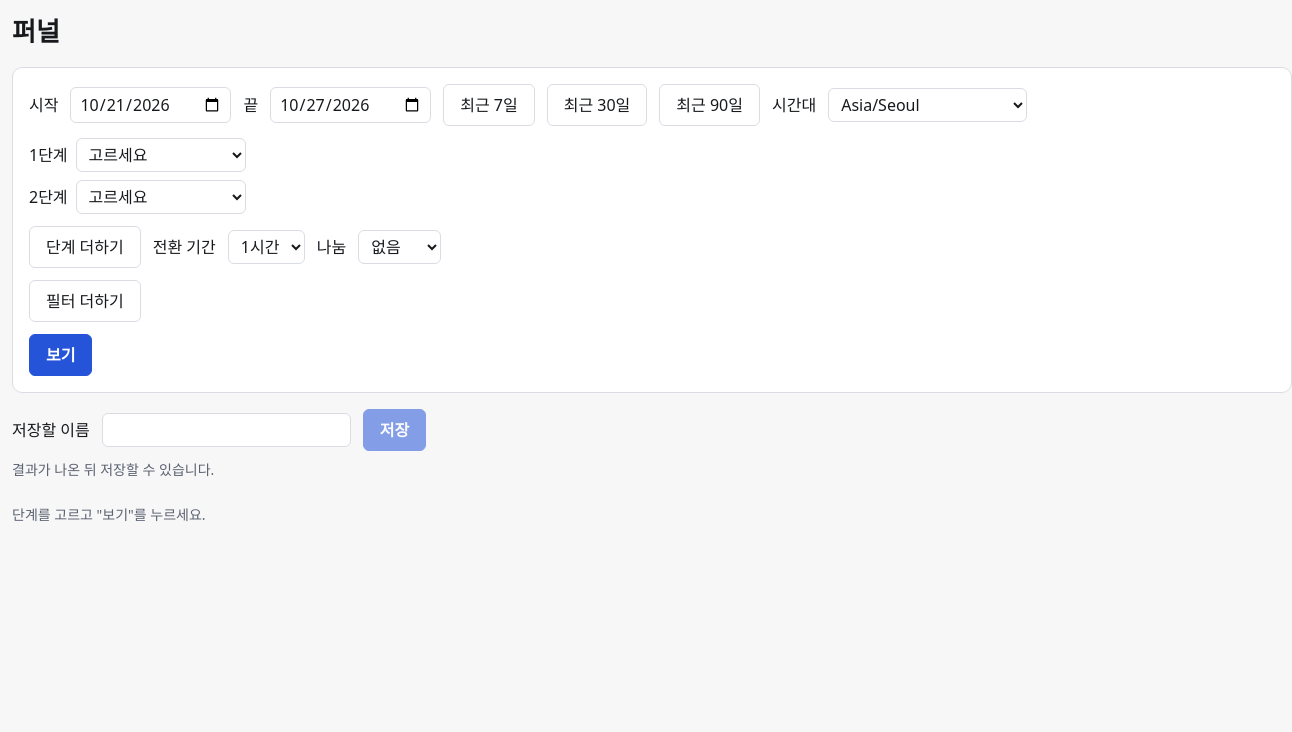
Test: FunnelsPage › 단계 더하기·빼기: 값의 순서가 남고, 뺀 자리의 단계로 포커스가 간다
The image size is (1292, 732).
Select "list_viewed" in the dropdown labelled "1단계": point(161, 155) [76,138,246,172]
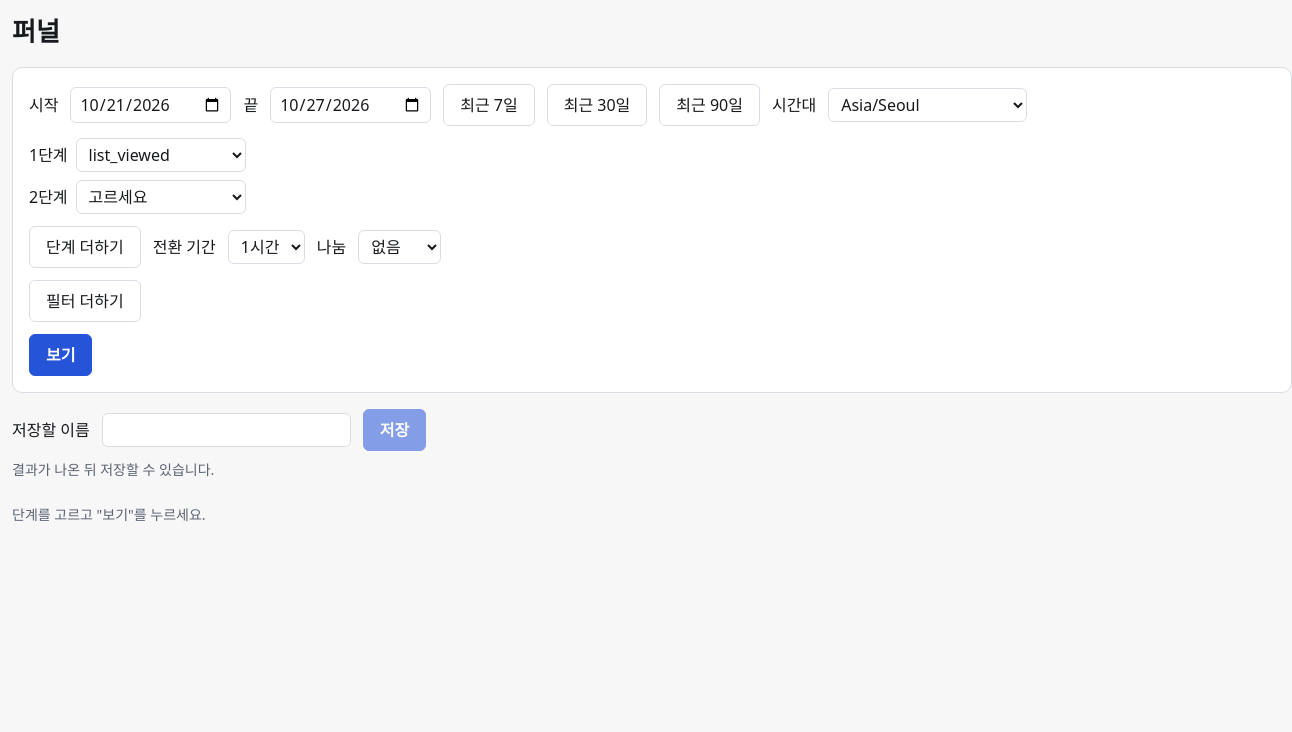
Select "seat_map_viewed" in the dropdown labelled "2단계": point(161, 197) [76,180,246,214]
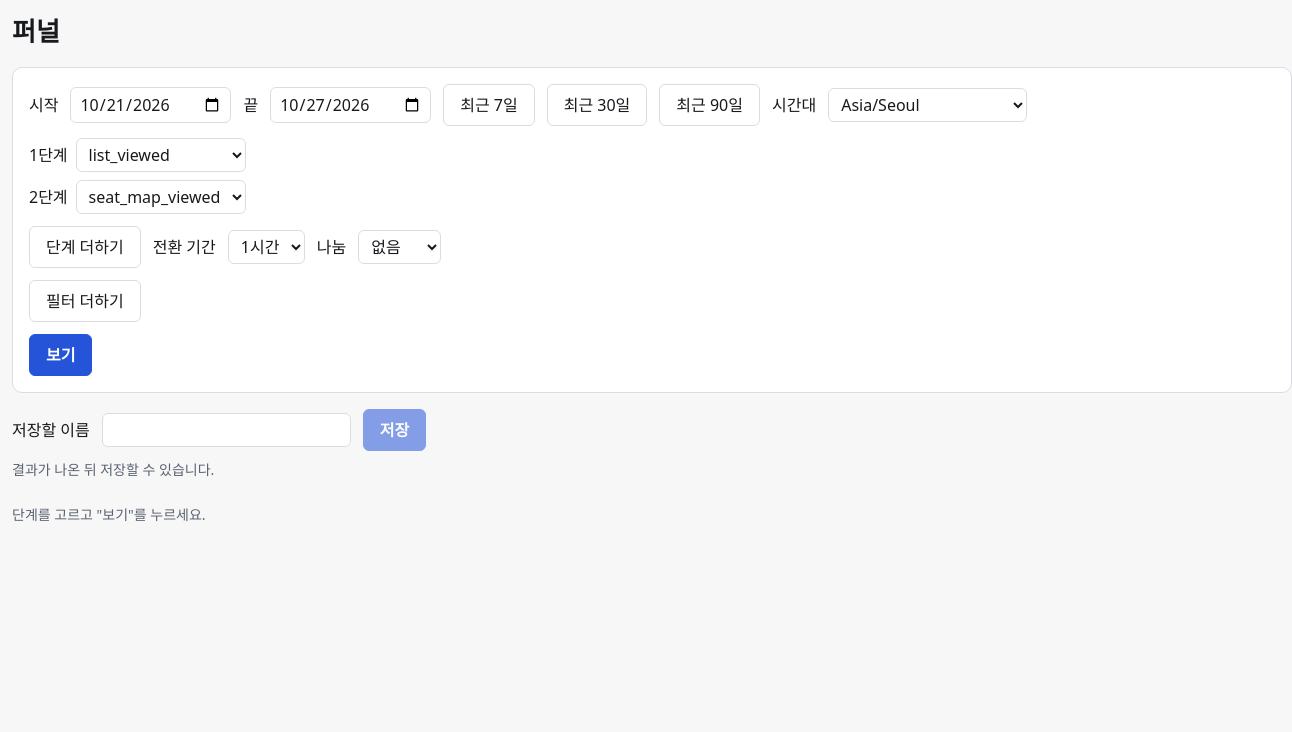
Click the button "단계 더하기": point(85, 247) [29,226,141,268]
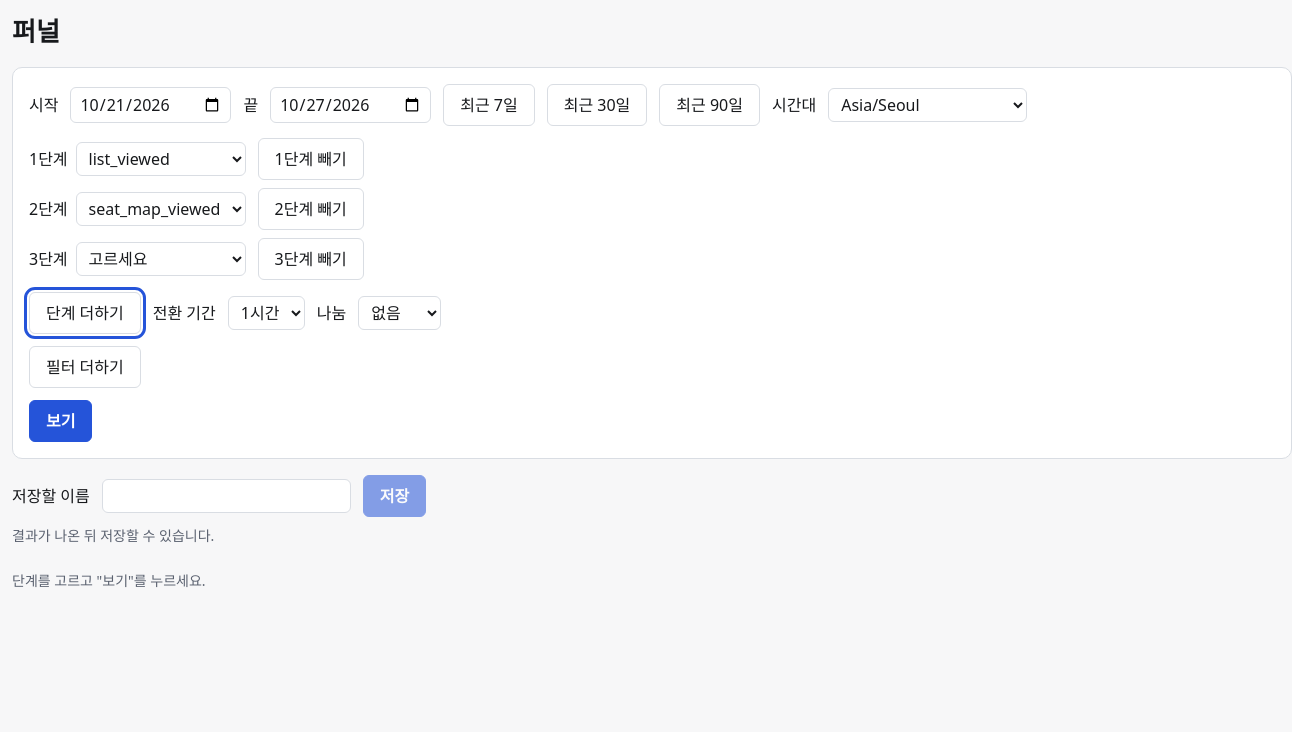
Select "paid" in the dropdown labelled "3단계": point(161, 259) [76,242,246,276]
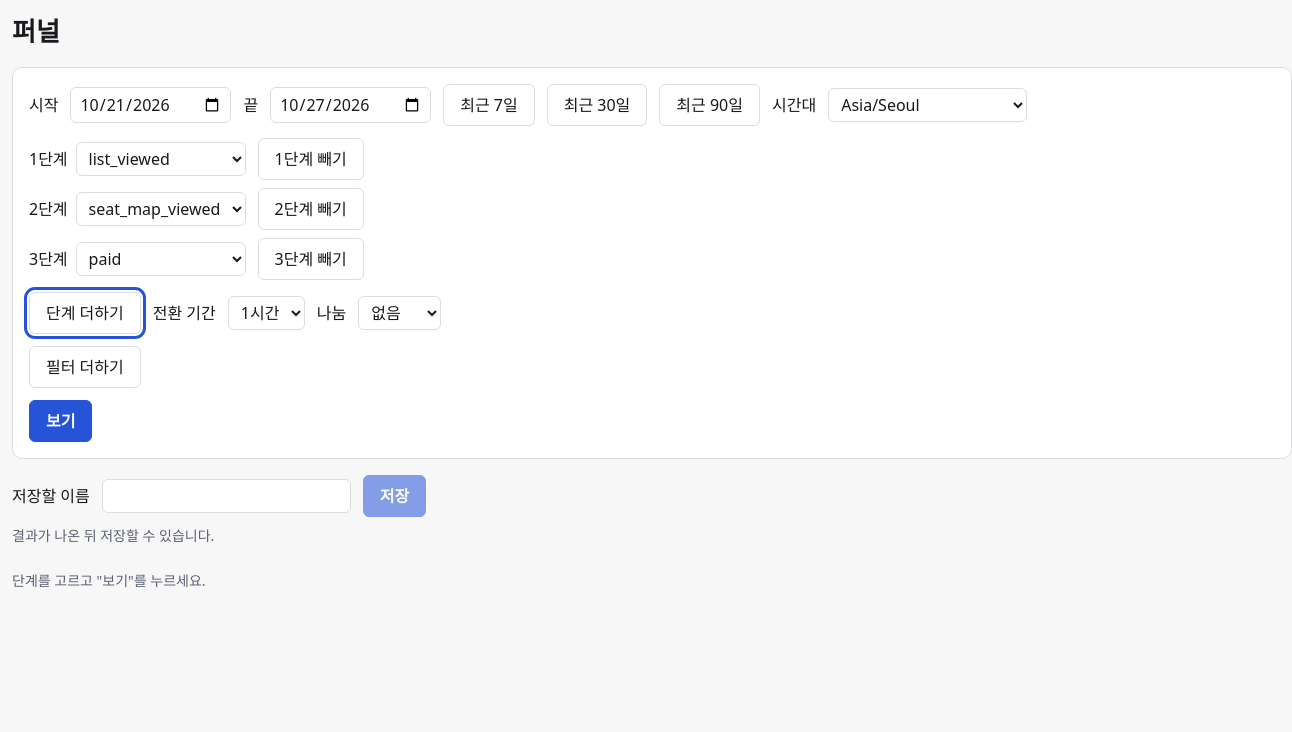
Click the button "2단계 빼기": point(311, 209) [258,188,364,230]
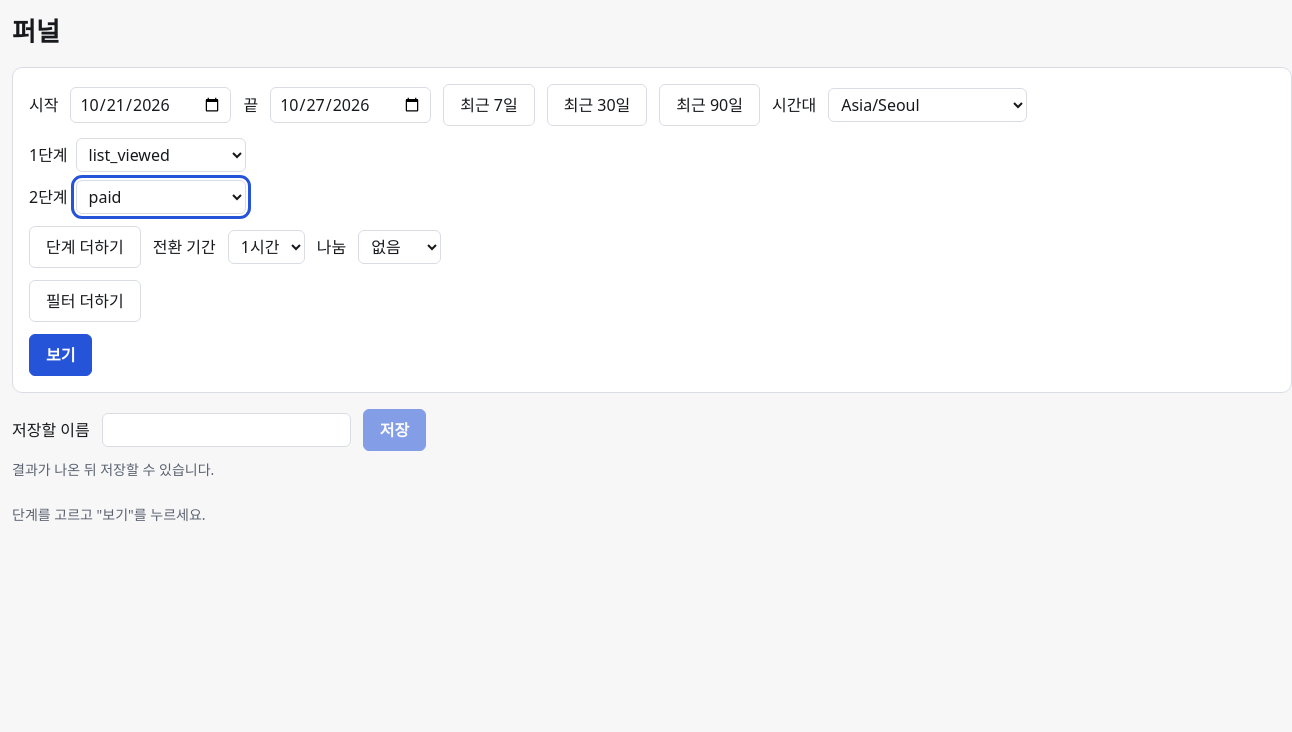
Result: the button "단계 빼기" is gone
